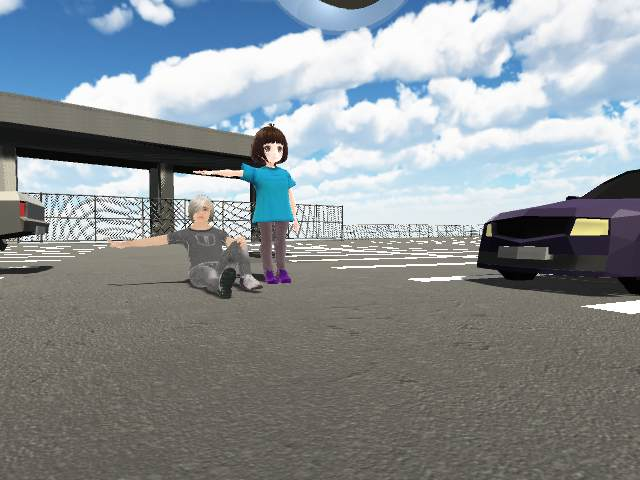doubleP_left: (99, 123, 301, 299)
